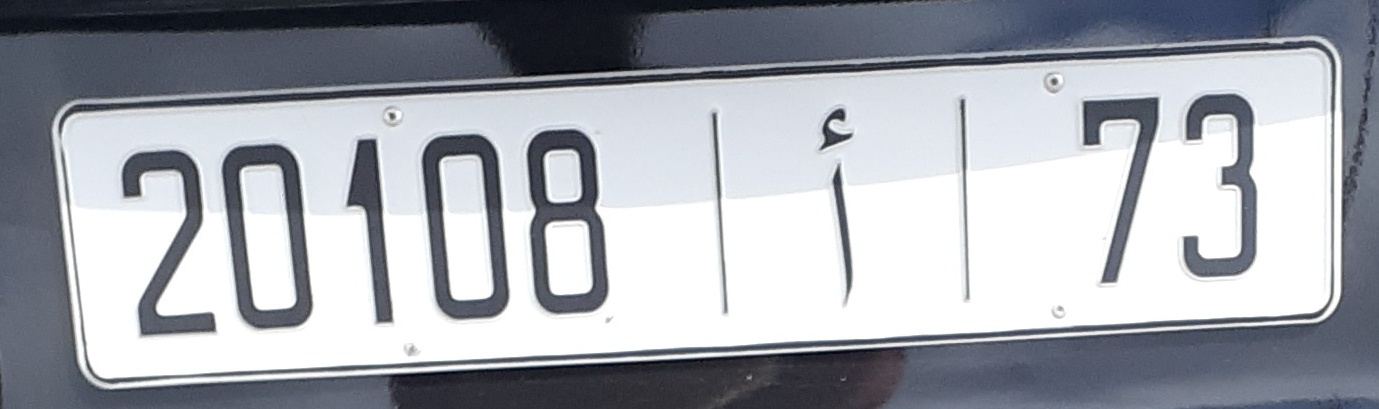0: (411, 119, 513, 329), (216, 135, 321, 335)
1: (329, 125, 401, 327)
2: (116, 141, 222, 341)
3: (1167, 74, 1283, 290)
7: (1066, 84, 1170, 292)
8: (523, 113, 608, 335)
a: (793, 99, 887, 318)
